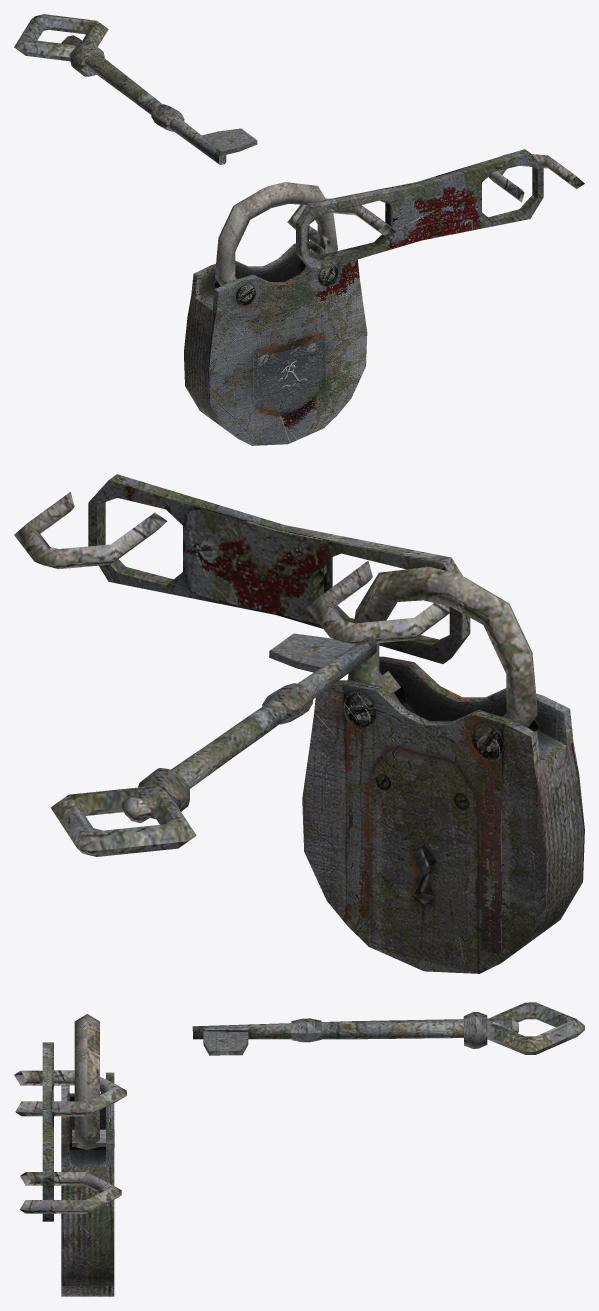
File: keyset_1.FBX
3 renders of one model, top to bottom at view 1: azimuth 30°, elevation 25°; view 2: azimuth 150°, elevation 25°; view 3: azimuth 270°, elevation 25°, orthographic. The views are drawn at different scales.
Visible parts, largest first — view 1: lock1_lod0, stoper1_lod0, key1_lod0, lockring1_lod0; view 2: lock1_lod0, stoper1_lod0, key1_lod0, lockring1_lod0; view 3: key1_lod0, lock1_lod0, stoper1_lod0, lockring1_lod0.
Part boxes in pixels (x1,y1,x2,y2): lock1_lod0: (184,240,367,445); stoper1_lod0: (287,149,584,272); key1_lod0: (14,14,257,164); lockring1_lod0: (215,182,337,285); lock1_lod0: (302,656,584,973); stoper1_lod0: (14,474,470,663); key1_lod0: (50,633,376,856); lockring1_lod0: (348,566,537,727); key1_lod0: (192,1002,584,1055); lock1_lod0: (61,1072,114,1296); stoper1_lod0: (14,1042,126,1221); lockring1_lod0: (74,1014,99,1149).
Bounding box in the file's own units: 29.88 × 20.59 × 39.51.
